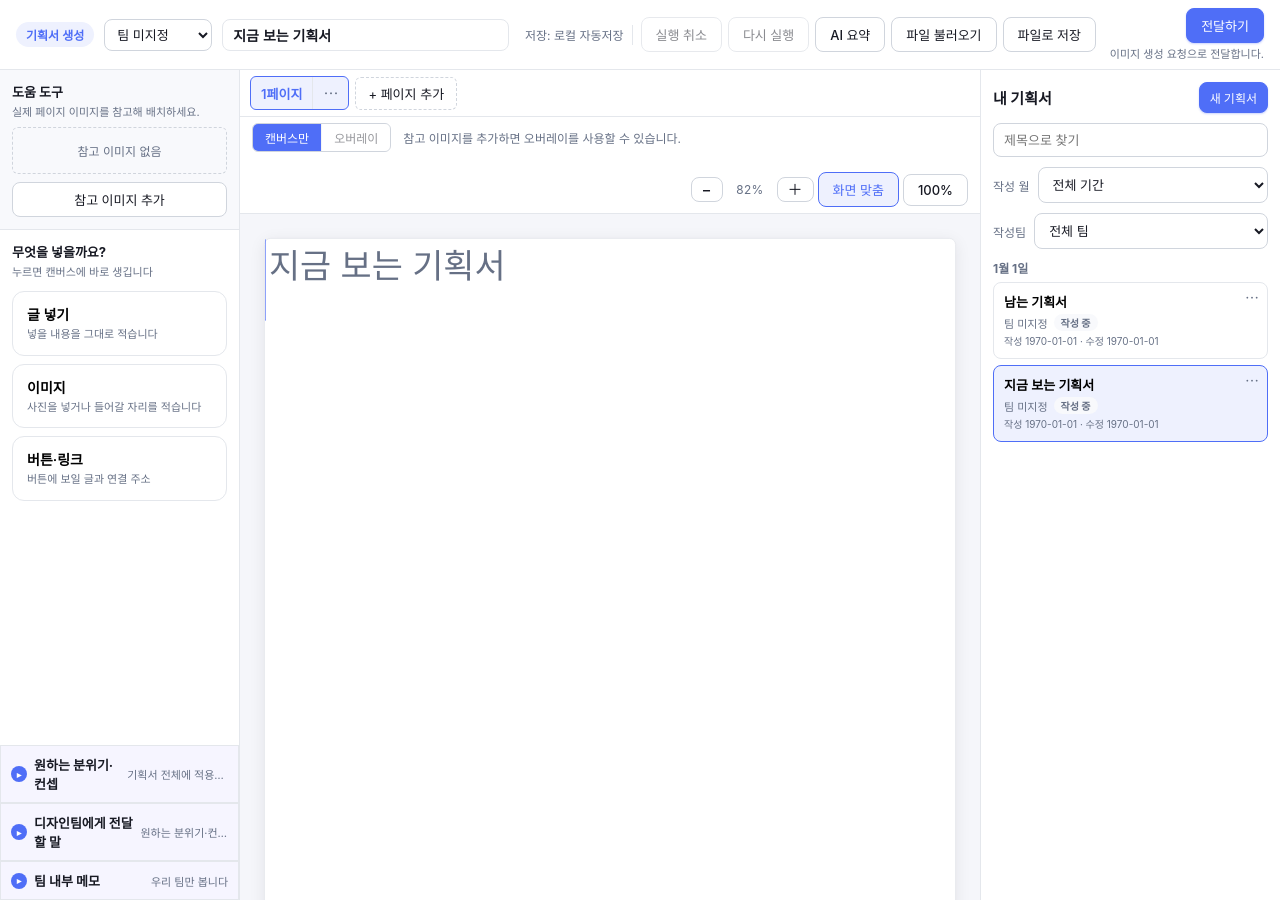
Test: §5 기획서 삭제 › opens the most recently edited brief left when the open one is deleted
Expected: the text "지금 보는 기획서" below "82" is shown, x1=269 y1=245 x2=505 y2=286
Expected: the text "지금 보는 기획서" below "1월 1일" is shown, x1=1004 y1=377 x2=1094 y2=393
Click the heading named "지금 보는 기획서 메뉴" at (1252, 380), box x1=1245 y1=372 x2=1259 y2=389
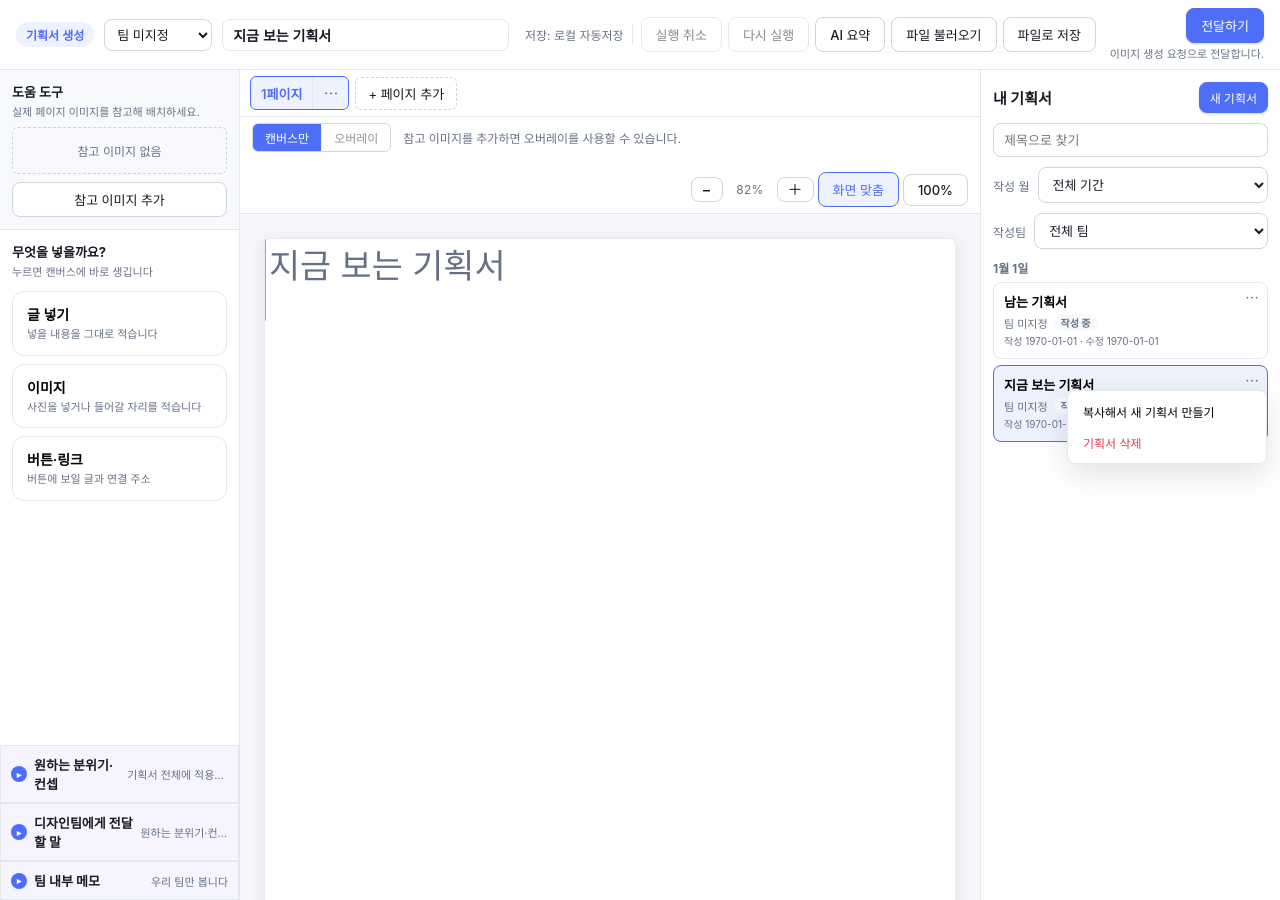
Click the button "기획서 삭제" at (1167, 442), box x1=1073 y1=427 x2=1261 y2=458
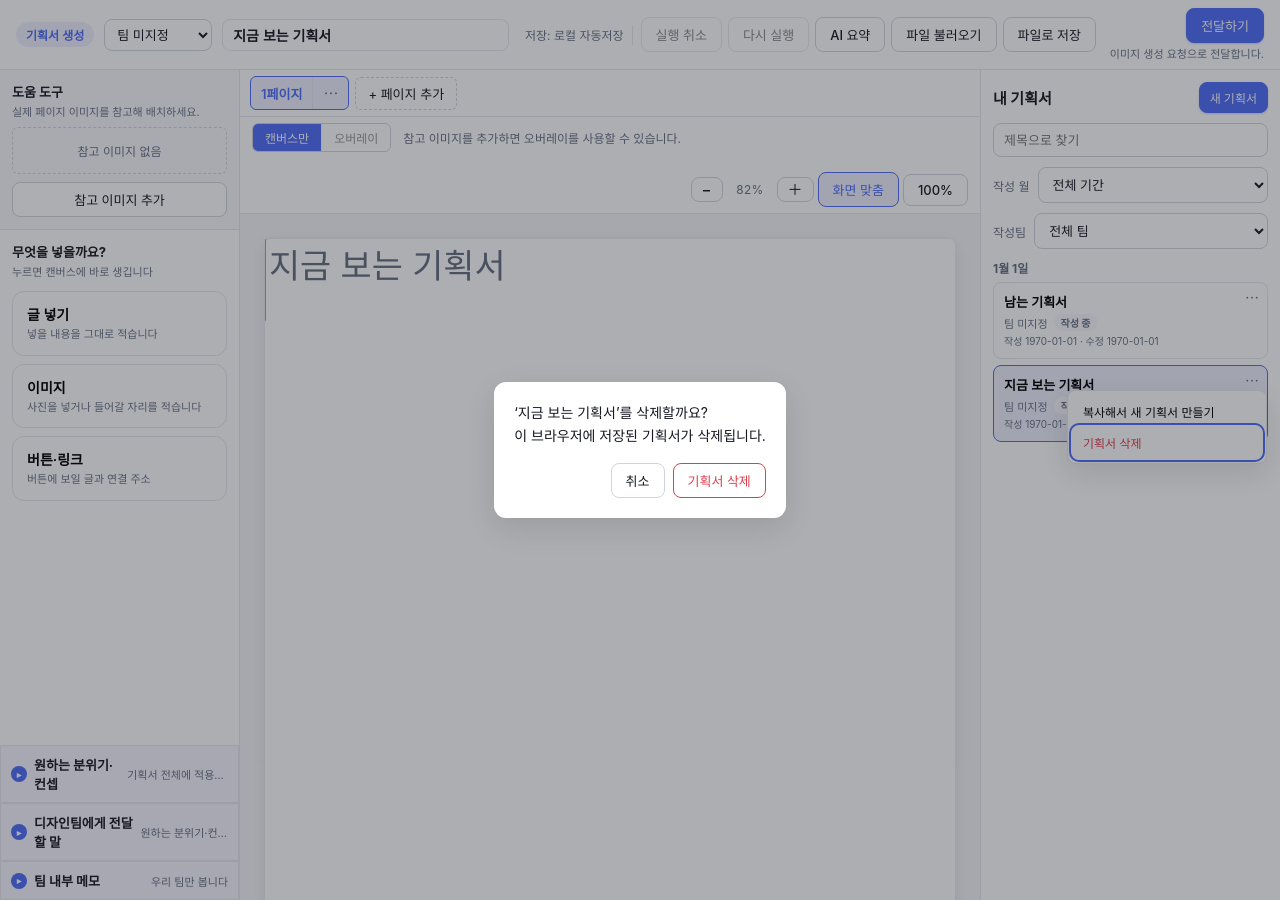
Click the button "기획서 삭제" at (719, 480), box x1=672 y1=463 x2=766 y2=498
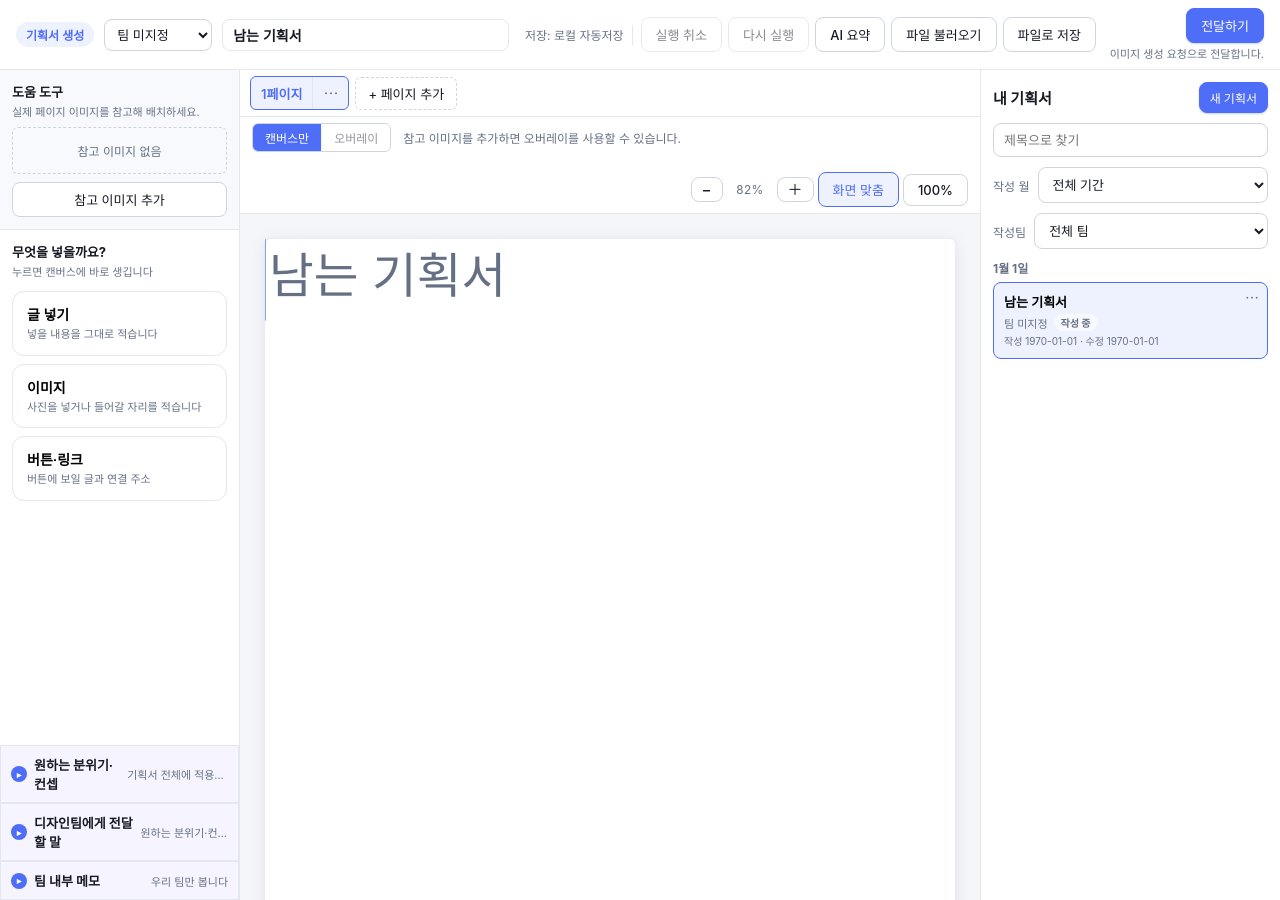
Now the text "남는 기획서" below "82" is shown, box x1=269 y1=246 x2=506 y2=305
